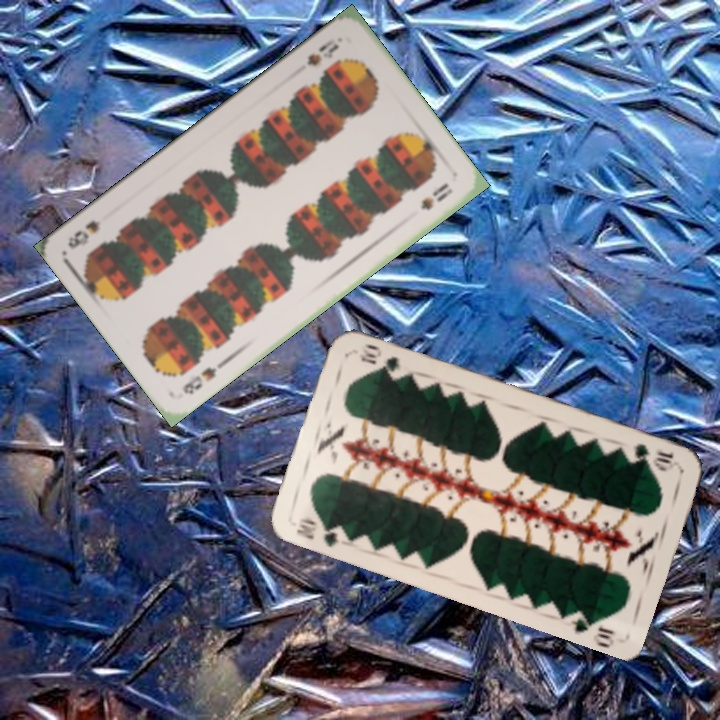G10: (292, 514, 350, 550), (630, 439, 682, 473)
S8: (178, 363, 219, 398), (303, 35, 342, 69)
